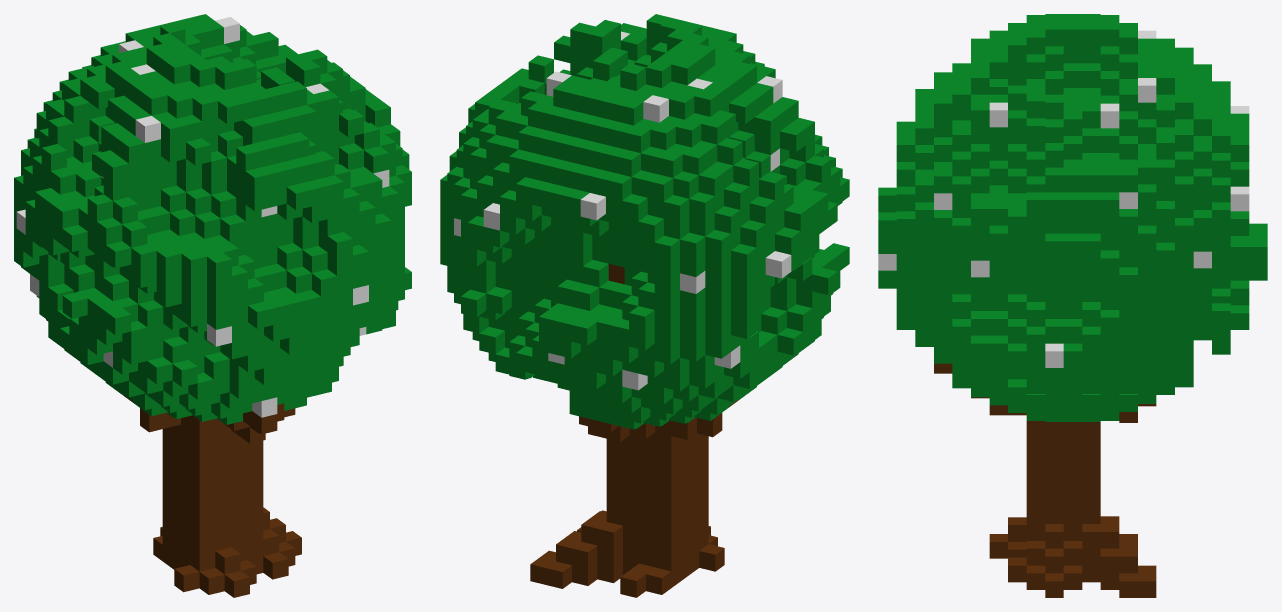
The model's file is tree3.fbx.
3 views of the same model, side by side, from view 1: azimuth 30°, elevation 25°; view 2: azimuth 150°, elevation 25°; view 3: azimuth 270°, elevation 25° (orthographic).
Parts seen in each view (by area): view 1: Tree_3 (2); view 2: Tree_3 (2); view 3: Tree_3 (2).
Boxes of the visible parts, <box> form: Tree_3 (2): <box>14,14,411,597</box>; Tree_3 (2): <box>440,14,849,597</box>; Tree_3 (2): <box>878,14,1267,597</box>.
Size of the model in its own units: 133 by 196 by 133.
